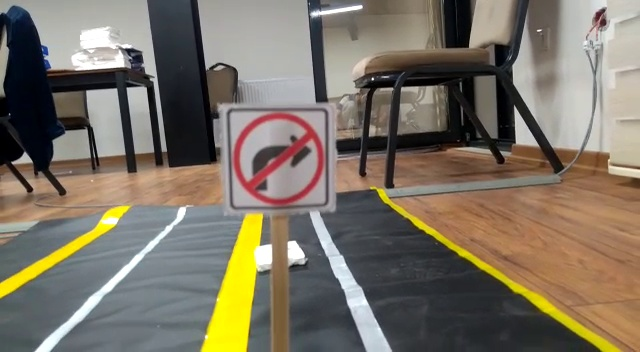saga_donulmez: (226, 109, 334, 210)
